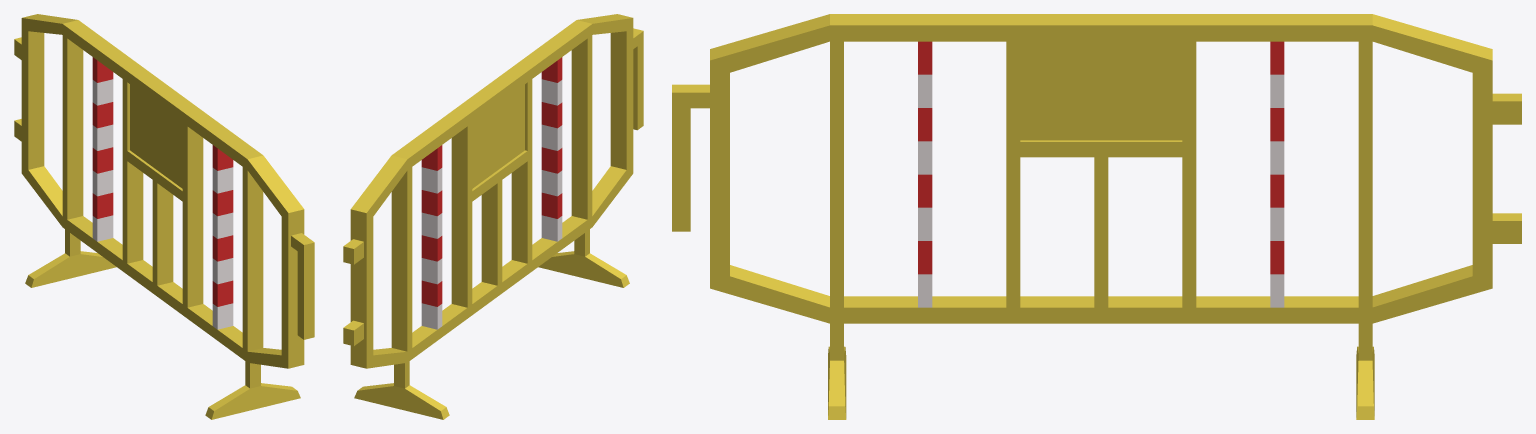
Rendered from valla policial.fbx.
3 views of the same model, side by side, from view 1: azimuth 30°, elevation 25°; view 2: azimuth 150°, elevation 25°; view 3: azimuth 270°, elevation 25° (orthographic). The views are drawn at different scales.
Parts seen in each view (by area): view 1: Plano; view 2: Plano; view 3: Plano.
Part boxes in pixels (box(x1,y1,x2,y2)): Plano: box(14, 14, 314, 419); Plano: box(343, 14, 643, 419); Plano: box(672, 14, 1521, 419).
Bounding box in the file's own units: 75.26 × 202 × 422.
